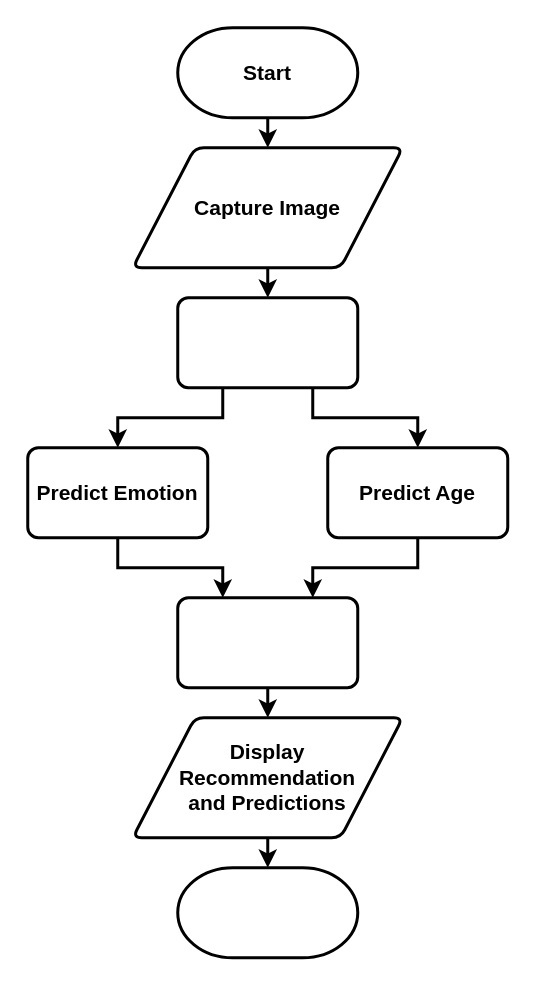
Some shapes in this 534 by 984 pixel diagram are drawn without their labels. Each missing label, with the box of its shape:
Determine Recommendation: (176, 596, 358, 688)
End: (176, 866, 358, 958)
Preprocess Image: (176, 296, 358, 388)
